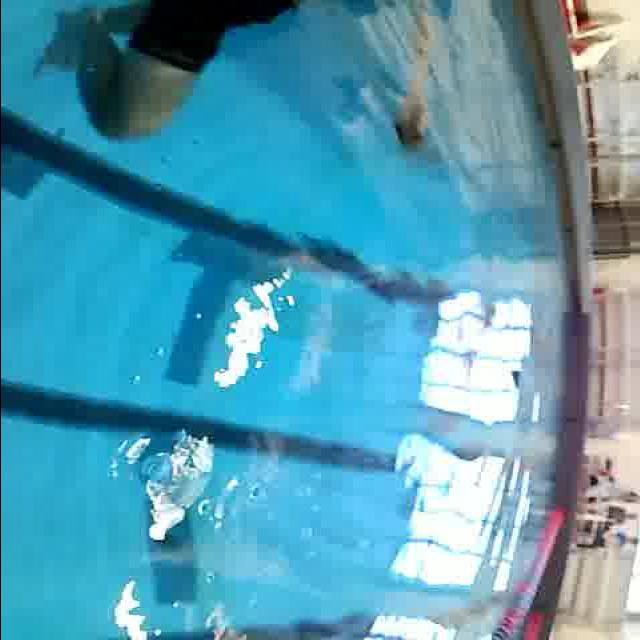CamMount: (504, 367, 526, 392)
